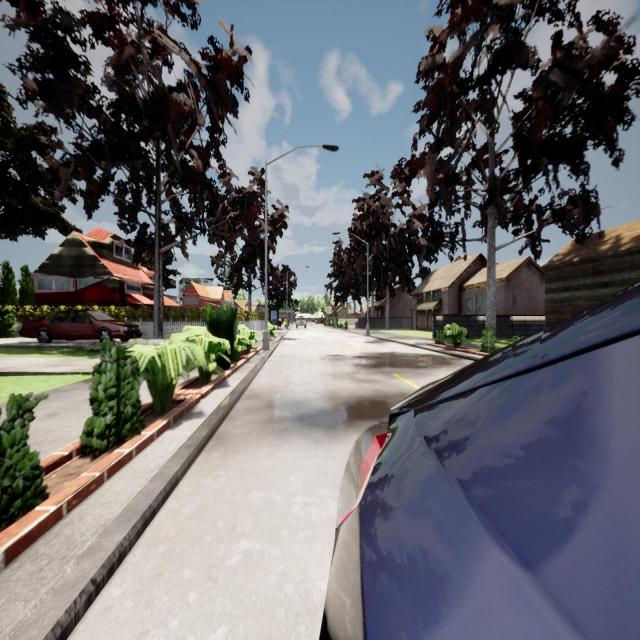Vehicle: (317, 283, 640, 637), (22, 306, 141, 344), (296, 315, 308, 329)
